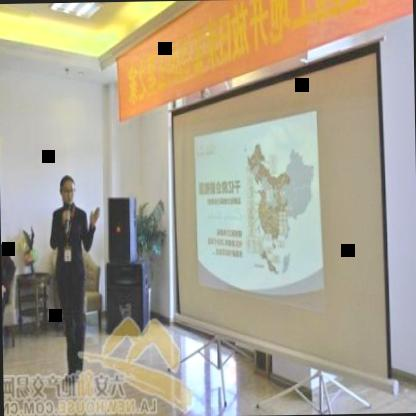head: (55, 167, 78, 208)
